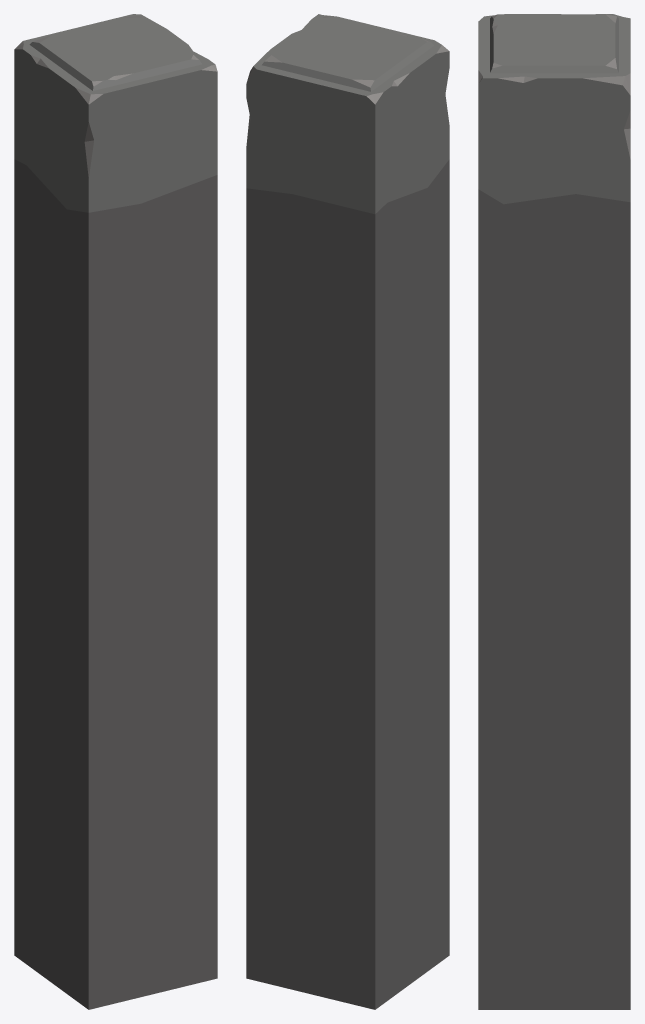
Rendered from SM_Env_PortEdge_Corner_01.fbx.
3 renders of one model, left to right at view 1: azimuth 30°, elevation 25°; view 2: azimuth 150°, elevation 25°; view 3: azimuth 270°, elevation 25°, orthographic. The views are drawn at different scales.
Visible parts, largest first — view 1: SM_Env_PortEdge_Corner_01; view 2: SM_Env_PortEdge_Corner_01; view 3: SM_Env_PortEdge_Corner_01.
Boxes of the visible parts, box(x1,y1,x2,y2) form: SM_Env_PortEdge_Corner_01: box(14, 14, 217, 1009); SM_Env_PortEdge_Corner_01: box(246, 14, 449, 1009); SM_Env_PortEdge_Corner_01: box(478, 14, 630, 1009).
Bounding box in the file's own units: 301 × 2051 × 301.
